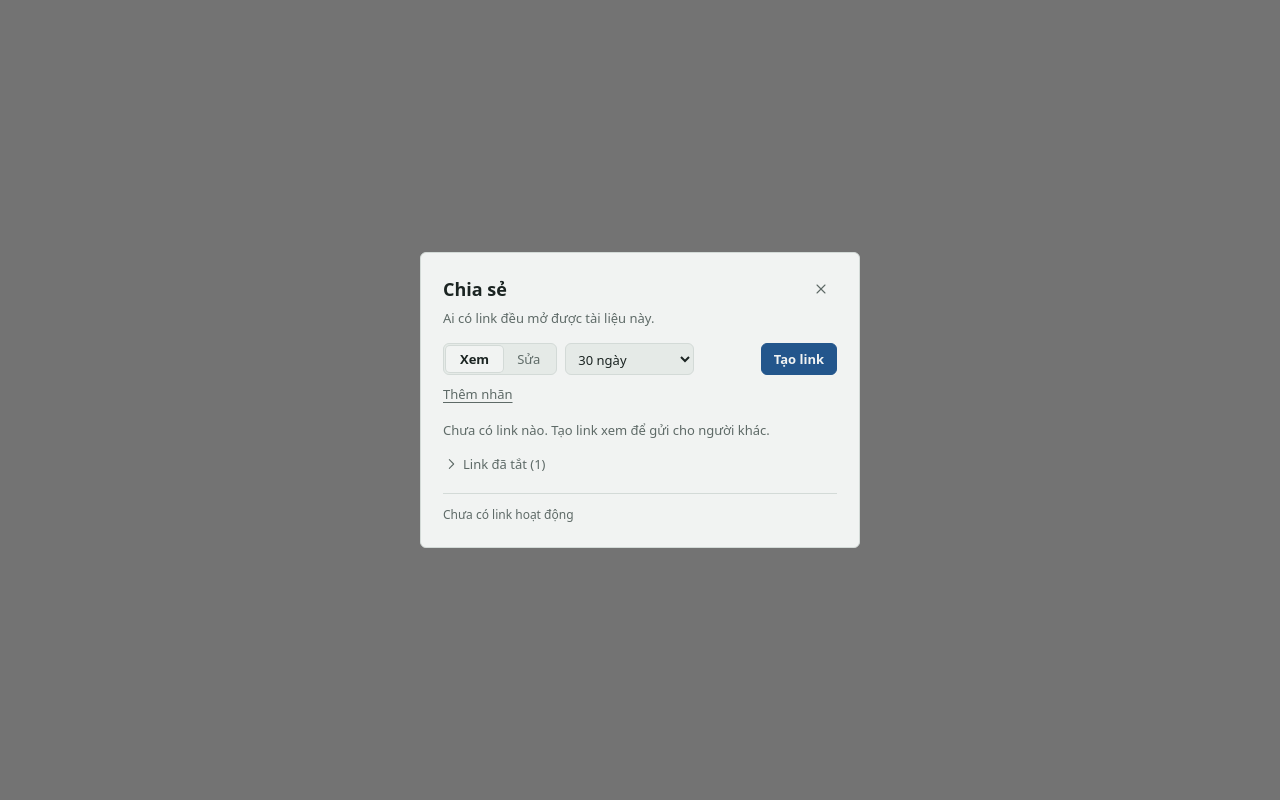
Test case: ShareModal › 8e2 link management › expired link is folded under the disclosure, no actions
Step 1. Click the button "Link đã tắt (1)" → (494, 464), box x1=443 y1=451 x2=546 y2=477
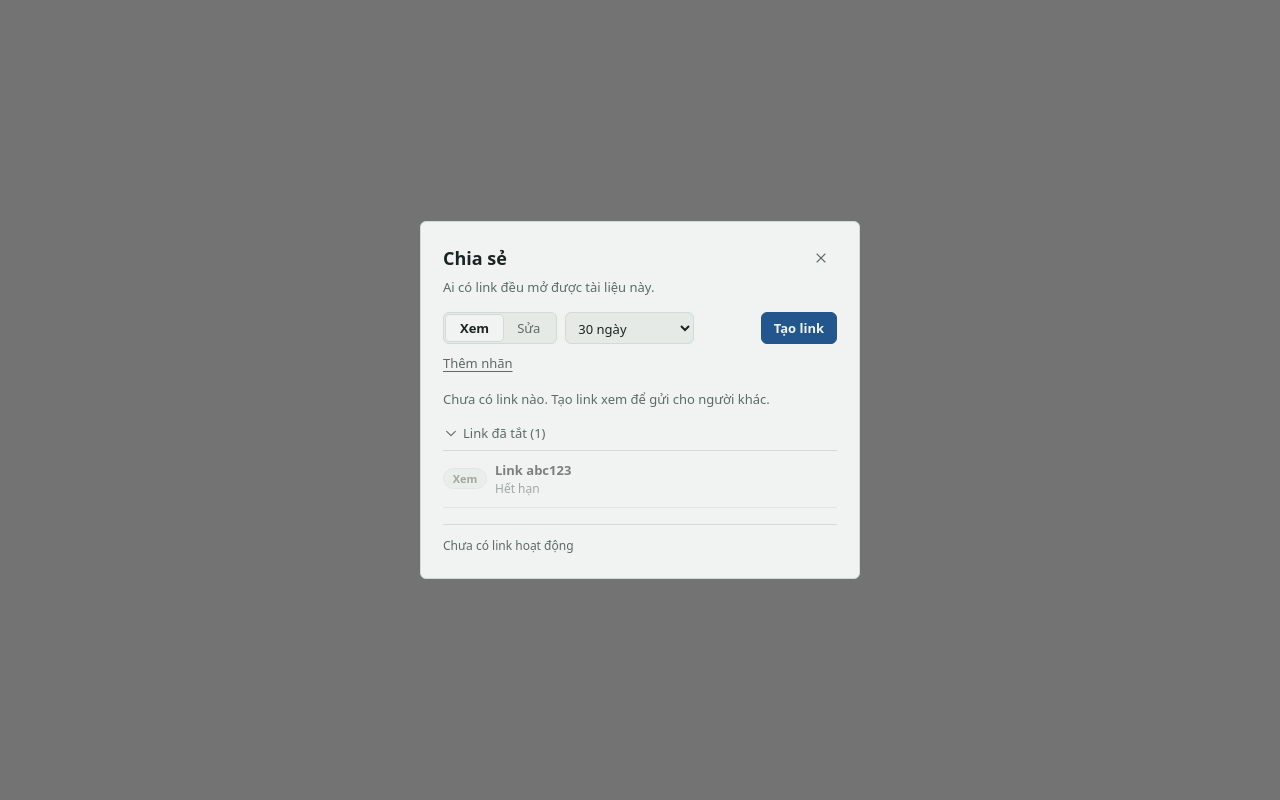
expect the list item "Xem Link abc123 Hết hạn" is shown: met, box x1=443 y1=451 x2=837 y2=508
